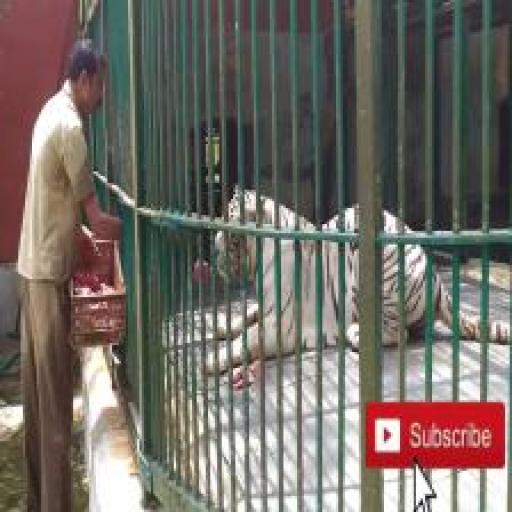Tiger: (206, 180, 511, 380)
